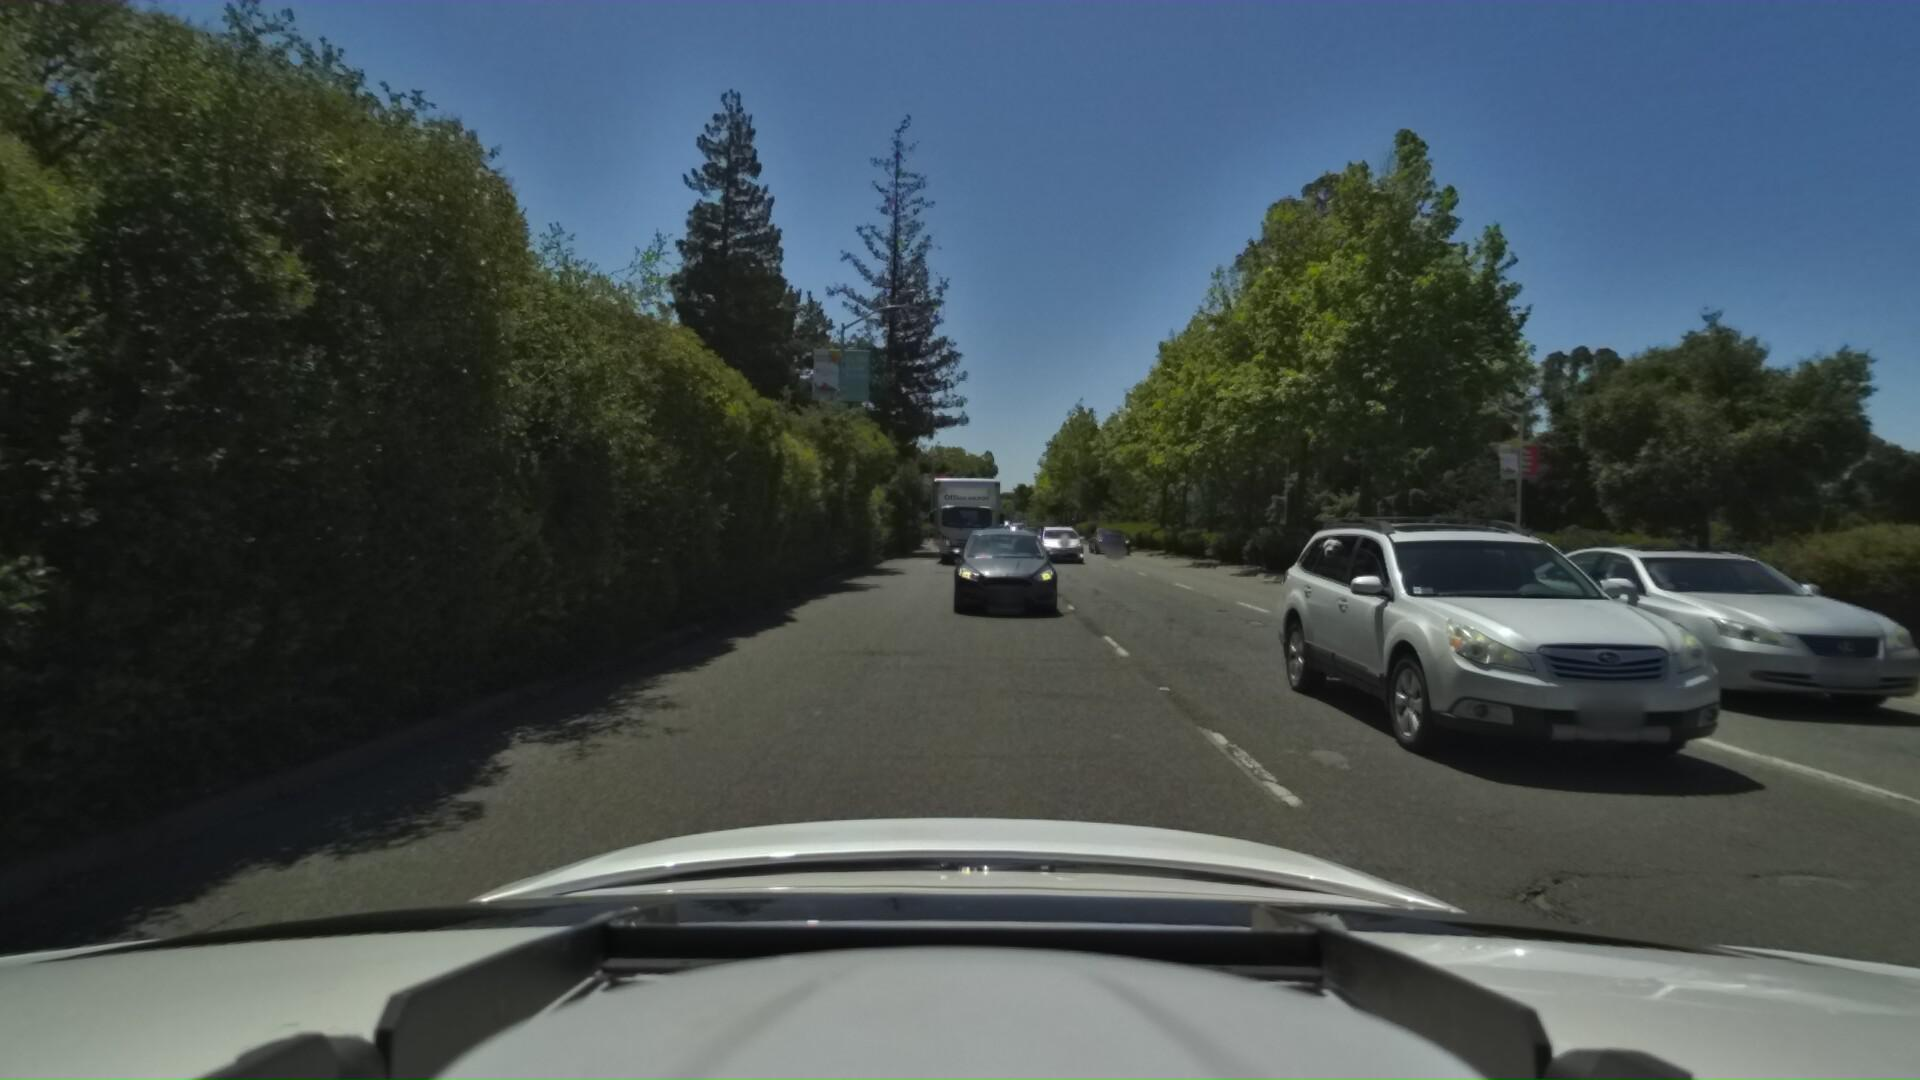car: (1220, 504, 1635, 748), (1429, 529, 1851, 703), (945, 521, 1051, 612), (1033, 521, 1087, 564), (1081, 524, 1126, 553)
truck: (919, 467, 1001, 566)
